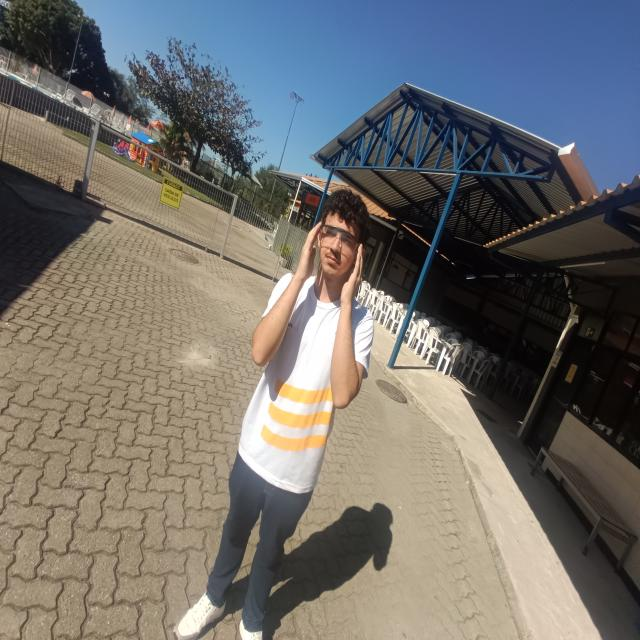oculos-epi: (319, 223, 361, 256)
